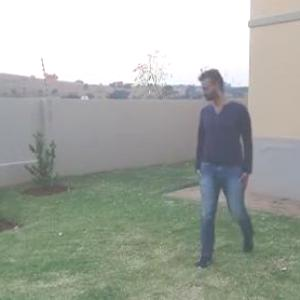follow: (178, 57, 254, 282)
